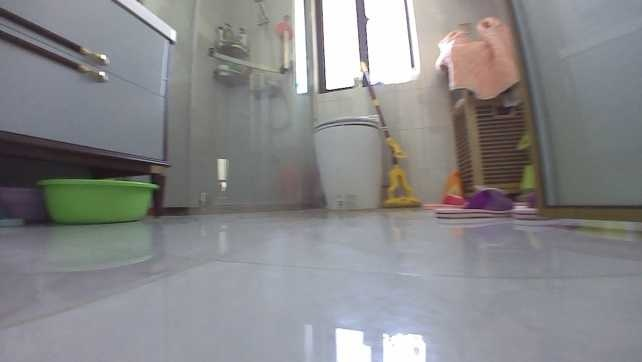slipper: (432, 185, 517, 221), (419, 189, 468, 210)
toilet: (309, 112, 390, 211)
washstand: (0, 1, 179, 217)
